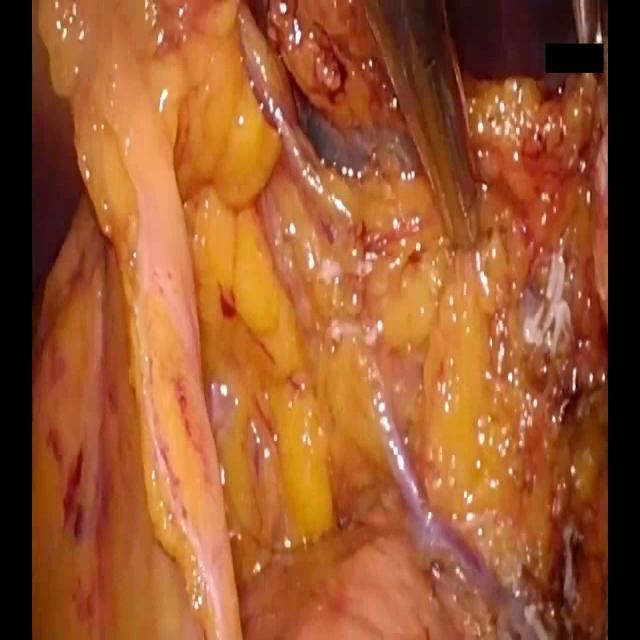surgical-area: (31, 0, 608, 639)
surgical-tool: (358, 0, 480, 247)
